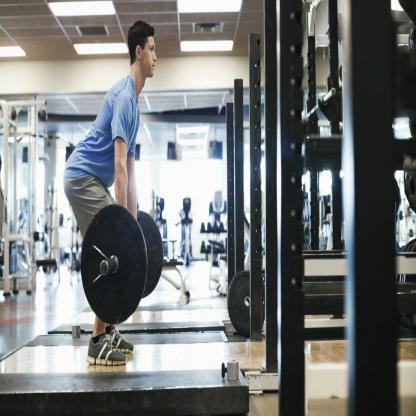barbell: (80, 203, 165, 327)
